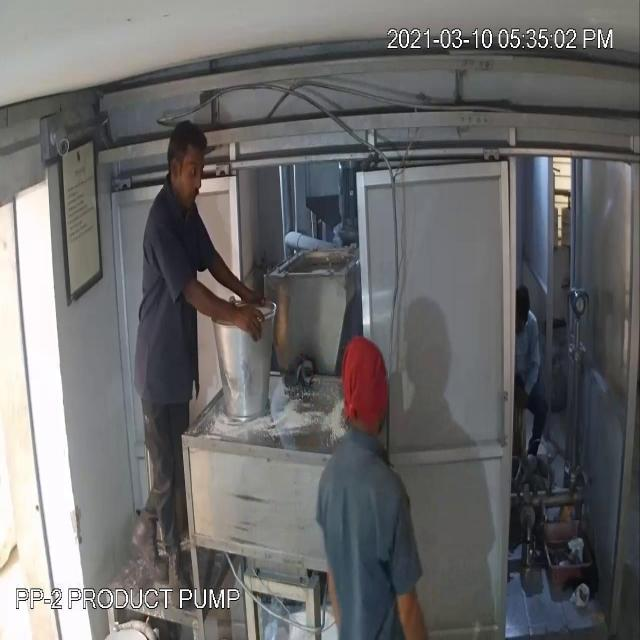No_Gloves: (178, 255, 278, 357)
